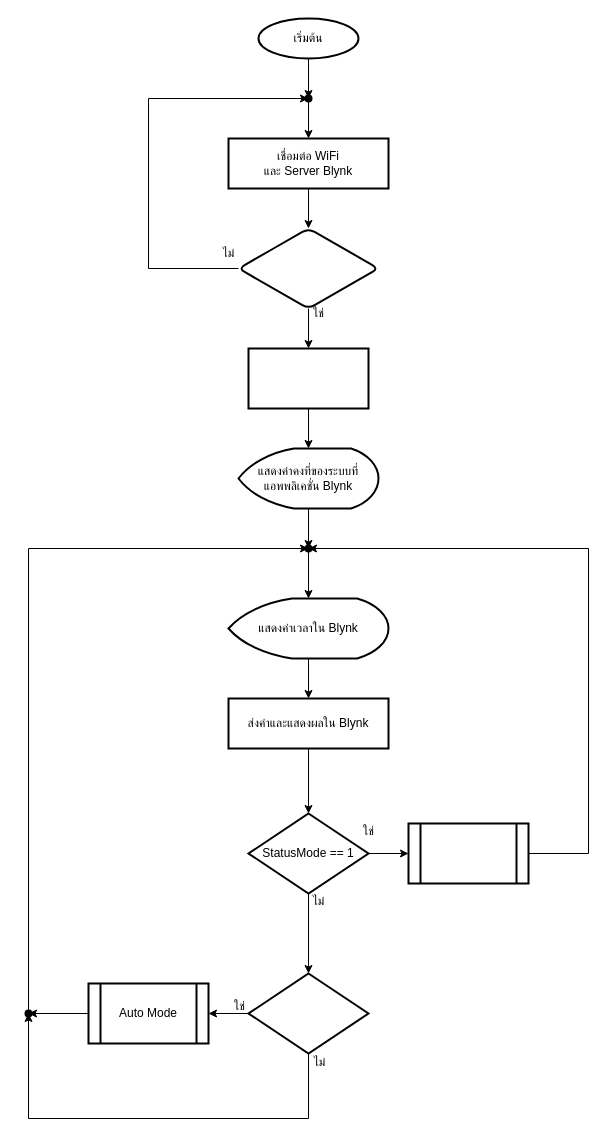
The diagram is 614 pixels wide and 1144 high, and some of its shapes have lost their labels. The shapes that lost their labels are listed below. From the top down, each one's centre as x and y in pixels, then its label:
pixel 308 268: เชื่อมต่อได้
pixel 308 378: อ่านค่าคงที่ของระบบจาก EERPOM
pixel 468 853: Mannual Mode
pixel 308 1013: StatusMode == 2
